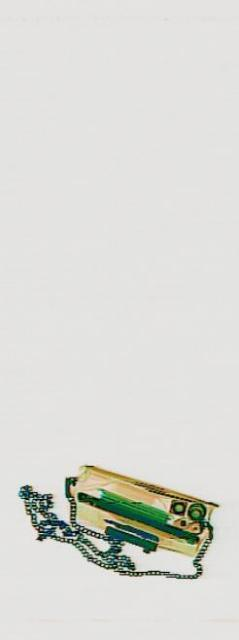Knife: (101, 512, 156, 542)
